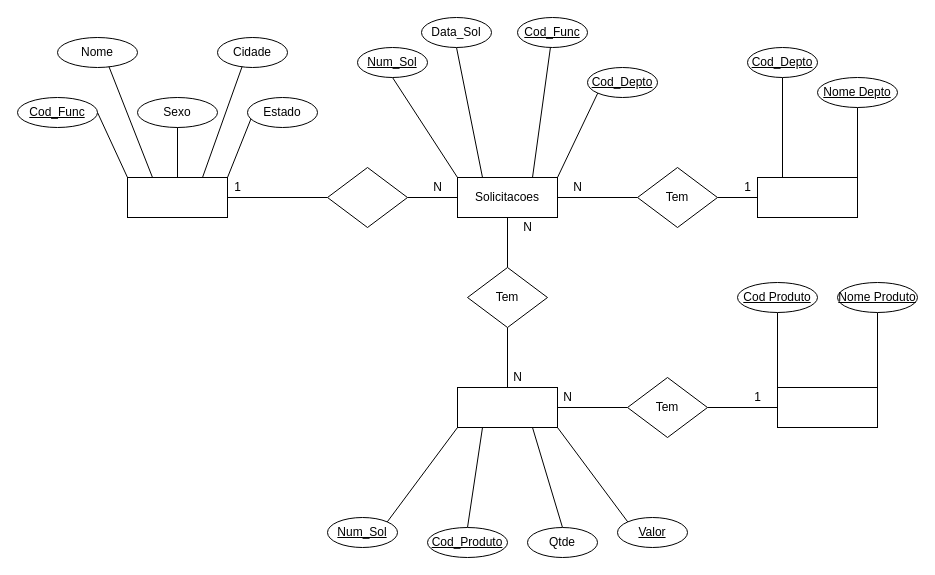
Some shapes in this 935 by 575 pixel diagram are drawn without their labels. The shapes that lost their labels are listed below. From the top down, each one's centre as x and y in pixels, then its label:
At [177,197]: "Funcionarios".
At [367,197]: "Faz".
At [807,197]: "Departamentos".
At [507,407]: "ItensSolicitacoes".
At [827,407]: "Produtos".
